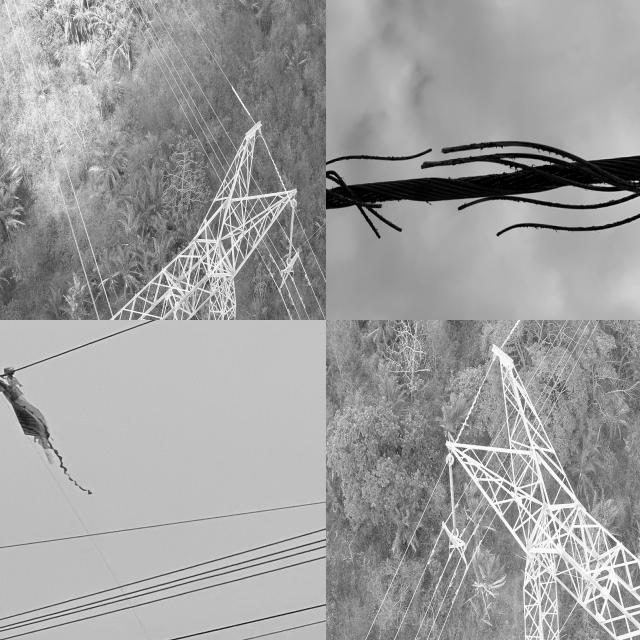杆塔: (431, 320, 640, 640), (0, 107, 305, 320)
植被遮挡: (0, 365, 99, 497)
正常绝缘子: (445, 453, 460, 539), (286, 198, 297, 267)
电缆破损: (326, 114, 629, 253)
